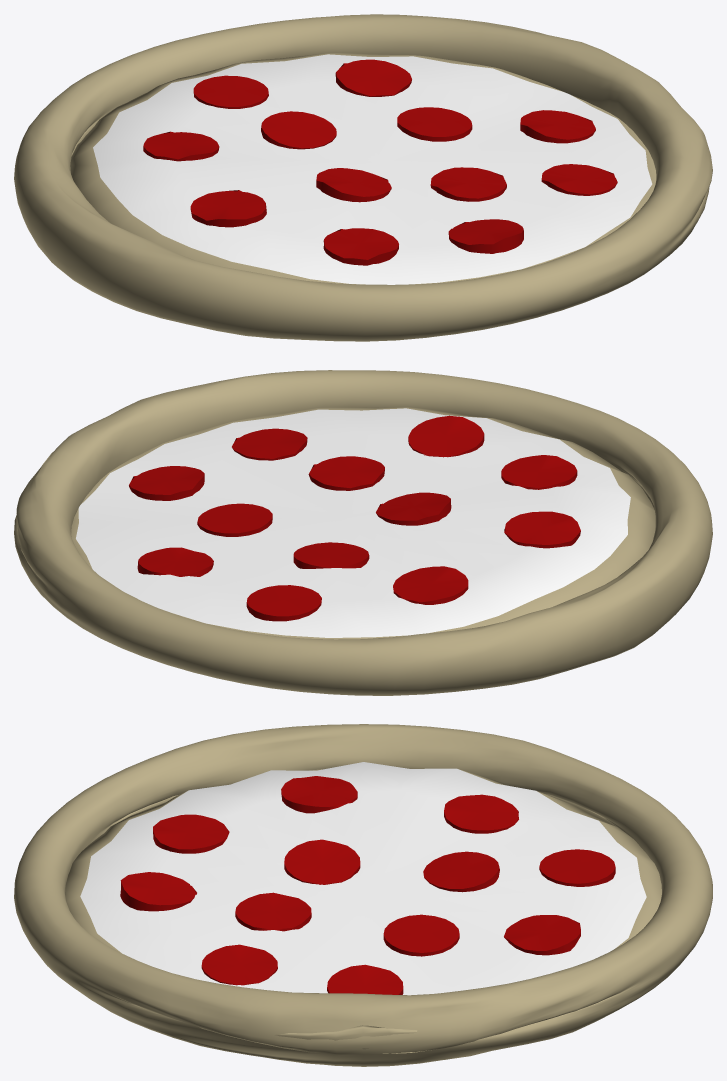
File: pizza.fbx
The picture shows the model from 3 angles, top to bottom: view 1: azimuth 30°, elevation 25°; view 2: azimuth 150°, elevation 25°; view 3: azimuth 270°, elevation 25°; orthographic projection.
Visible parts, largest first — view 1: pTorus2, pasted__pasted__pCylinder2 (×4), pasted__pasted__pasted__pCylinder2 (×3), pasted__pasted__pasted__pasted__pCylinder2 (×3), pasted__pCylinder2, pCylinder2; view 2: pTorus2, pasted__pasted__pCylinder2 (×4), pasted__pasted__pasted__pasted__pCylinder2 (×3), pasted__pasted__pasted__pCylinder2 (×3), pasted__pCylinder2, pCylinder2; view 3: pTorus2, pasted__pasted__pCylinder2 (×4), pasted__pasted__pasted__pasted__pCylinder2 (×3), pasted__pasted__pasted__pCylinder2 (×3), pasted__pCylinder2, pCylinder2.
Part boxes in pixels (bbox=[...]): pTorus2: bbox=[14, 14, 712, 341]; pasted__pasted__pCylinder2 (×4): bbox=[143, 75, 472, 161]; pasted__pasted__pasted__pCylinder2 (×3): bbox=[323, 59, 617, 265]; pasted__pasted__pasted__pasted__pCylinder2 (×3): bbox=[316, 167, 523, 253]; pasted__pCylinder2: bbox=[190, 190, 266, 227]; pCylinder2: bbox=[520, 110, 595, 143]; pTorus2: bbox=[14, 370, 712, 695]; pasted__pasted__pCylinder2 (×4): bbox=[197, 503, 468, 621]; pasted__pasted__pasted__pasted__pCylinder2 (×3): bbox=[308, 415, 484, 525]; pasted__pasted__pasted__pCylinder2 (×3): bbox=[137, 428, 577, 576]; pasted__pCylinder2: bbox=[504, 511, 580, 548]; pCylinder2: bbox=[129, 466, 204, 500]; pTorus2: bbox=[14, 724, 712, 1066]; pasted__pasted__pCylinder2 (×4): bbox=[383, 794, 615, 956]; pasted__pasted__pasted__pasted__pCylinder2 (×3): bbox=[120, 839, 360, 931]; pasted__pasted__pasted__pCylinder2 (×3): bbox=[153, 814, 580, 985]; pasted__pCylinder2: bbox=[281, 776, 357, 813]; pCylinder2: bbox=[327, 964, 403, 994].
Size of the model in its own units: 13.69 by 1.44 by 13.57.
